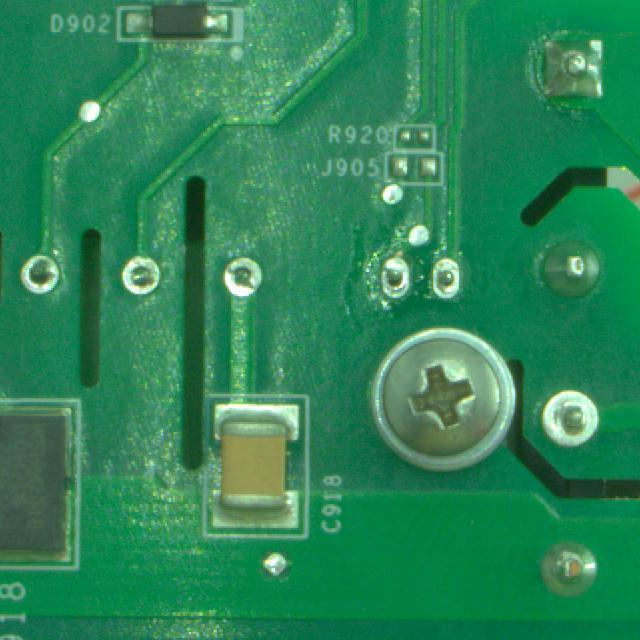Insufficient solder: (537, 386, 600, 450), (108, 251, 178, 306), (216, 254, 279, 303), (15, 250, 66, 301), (374, 253, 421, 296), (427, 259, 465, 312)
